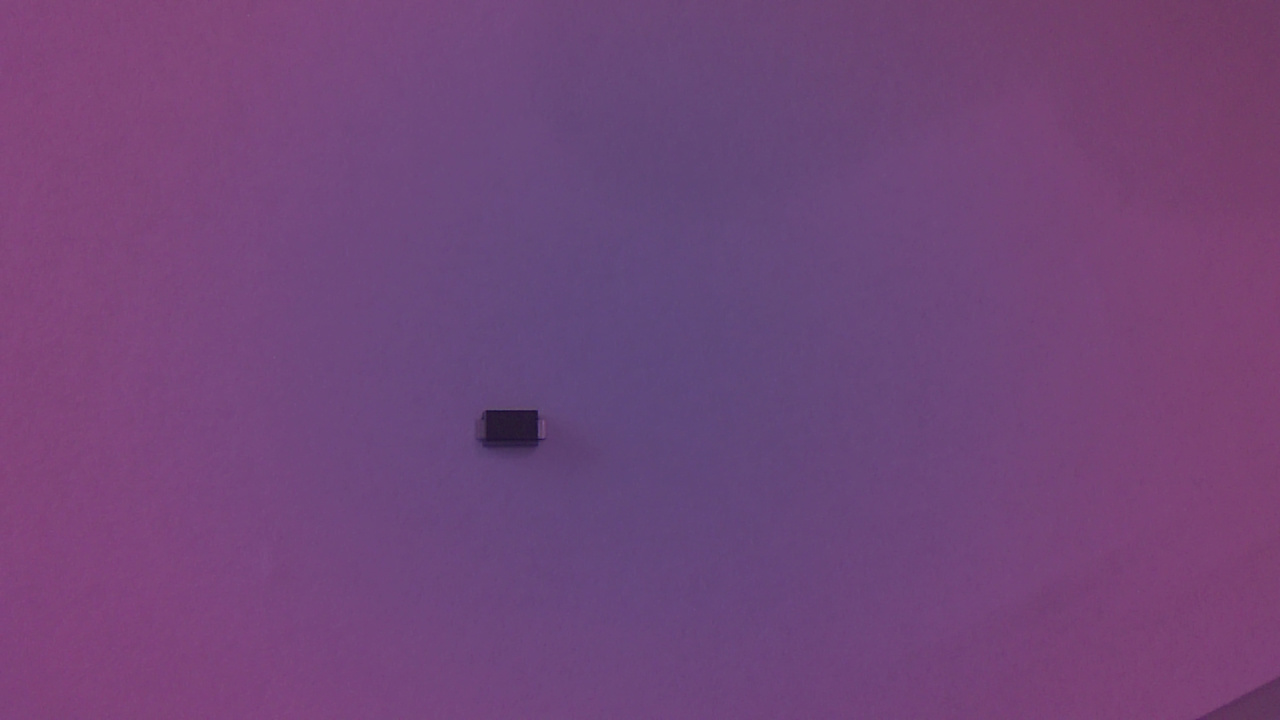Diode: (477, 407, 566, 460)
